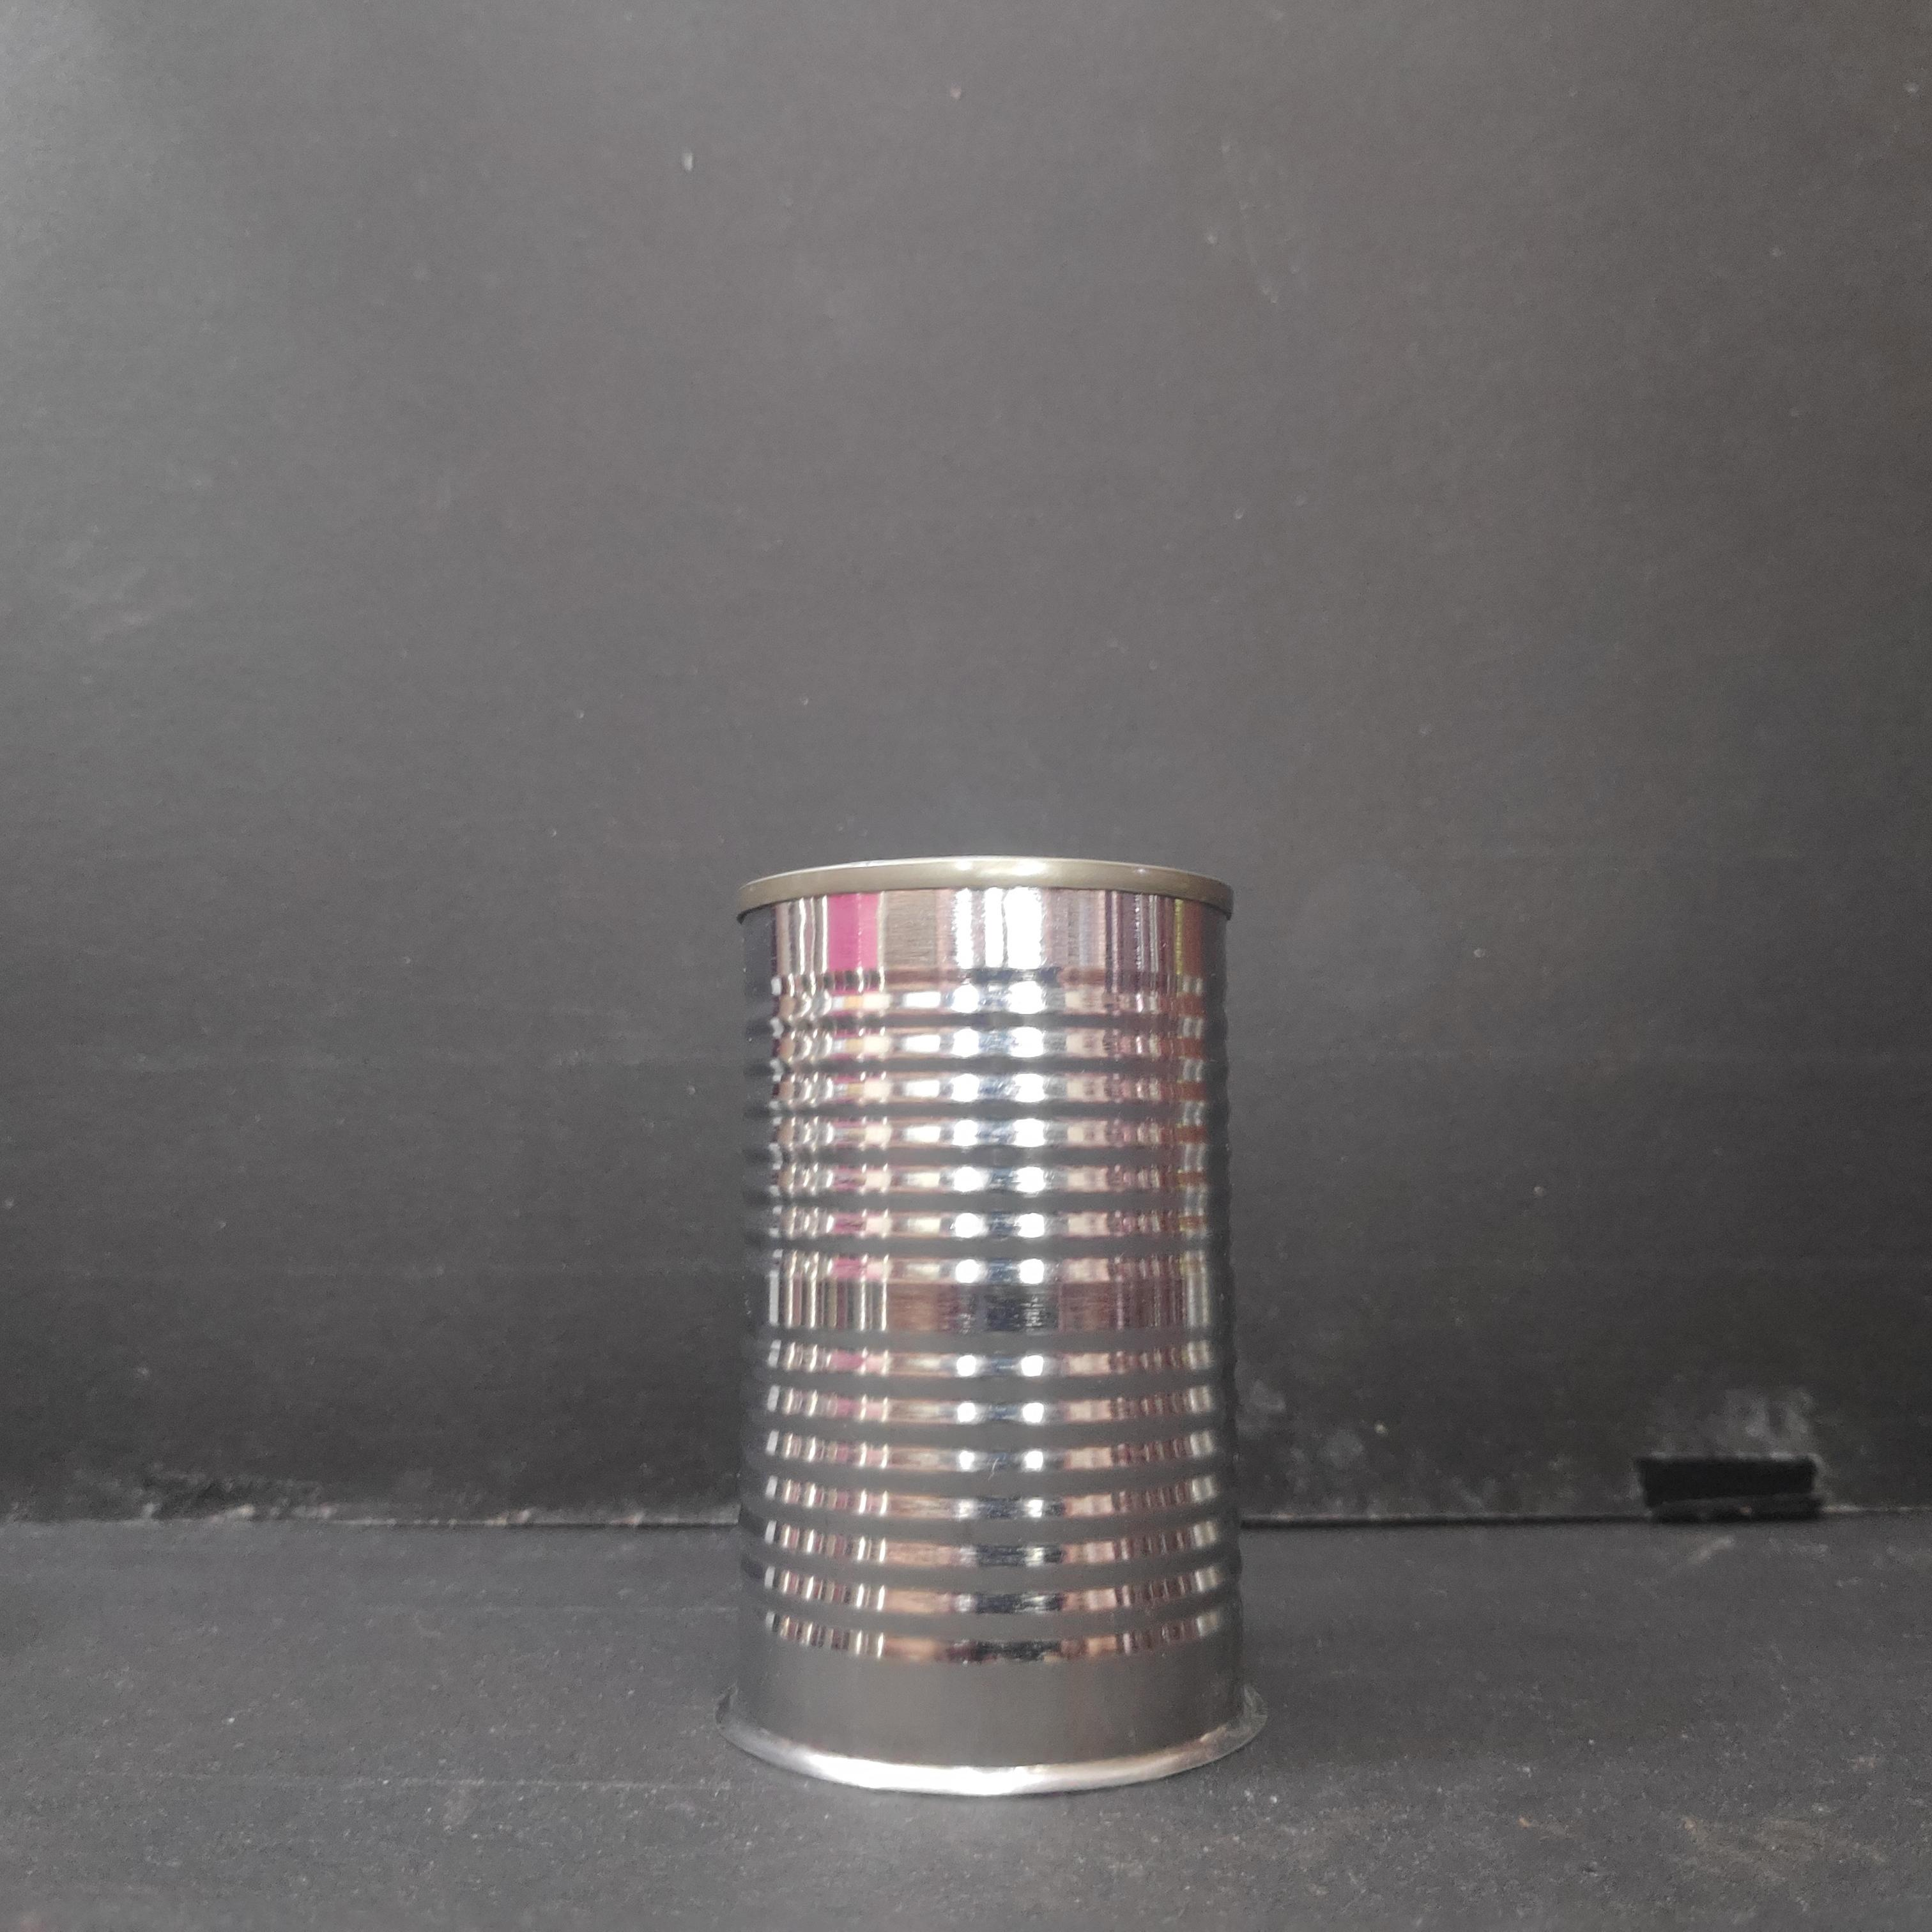No defect: (711, 855, 1271, 1797)
